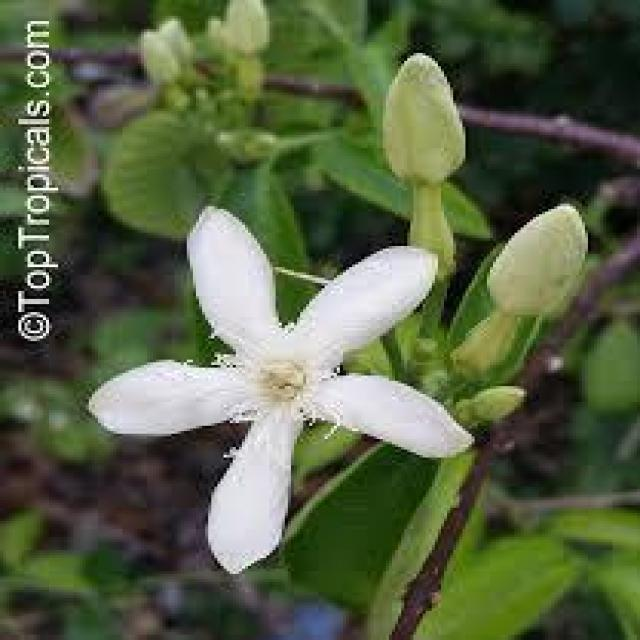organic waste: (84, 213, 495, 562)
